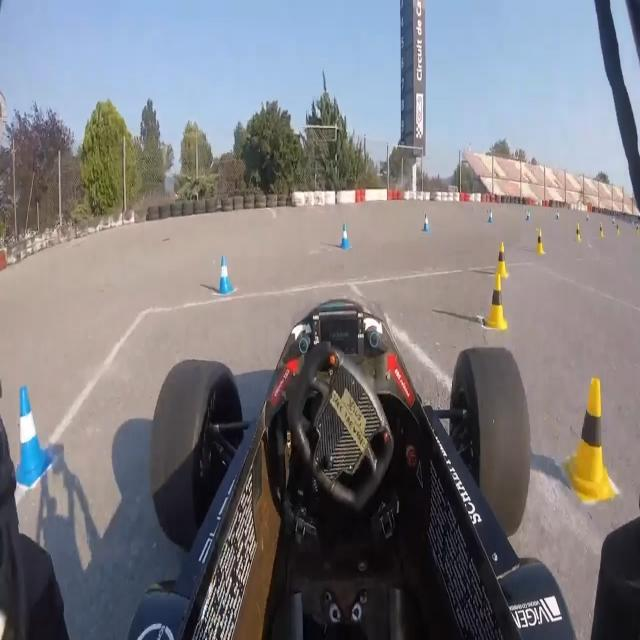blue_cone: (15, 378, 56, 497), (214, 250, 235, 300), (340, 225, 352, 251), (422, 211, 432, 232), (486, 208, 496, 226), (525, 207, 531, 226)
yellow_cone: (559, 372, 618, 510), (482, 272, 508, 338), (494, 240, 509, 280), (534, 227, 546, 258), (574, 221, 584, 245), (599, 221, 606, 241)
